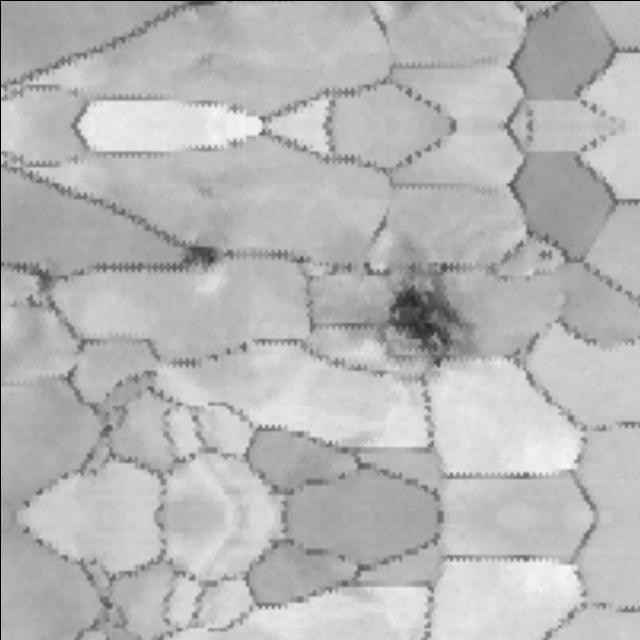good_void: (368, 252, 487, 374), (171, 234, 226, 279), (536, 244, 555, 263)
